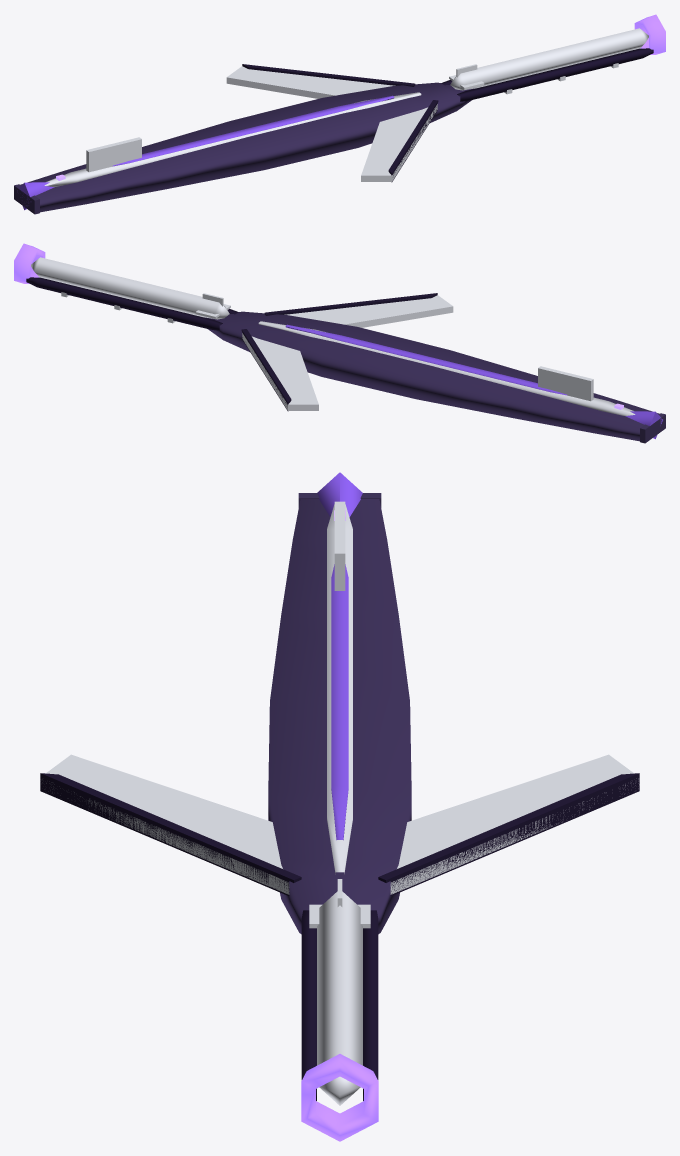
Rendered from lance-hadron.glb.
3 renders of one model, top to bottom at view 1: azimuth 30°, elevation 25°; view 2: azimuth 150°, elevation 25°; view 3: azimuth 270°, elevation 25°, orthographic. The views are drawn at different scales.
Parts seen in each view (by area): view 1: blade_hull, torpedo, guard_blade_p, guard_blade_s, rail_s, blade_spine, spine_inlay, dorsal_fin, guard_edge_p, muzzle_collar, guard_edge_s, transom (+1 smaller); view 2: blade_hull, torpedo, guard_blade_s, guard_blade_p, rail_p, blade_spine, spine_inlay, dorsal_fin, guard_edge_s, muzzle_collar, guard_edge_p, transom (+1 smaller); view 3: blade_hull, guard_blade_s, guard_blade_p, torpedo, guard_edge_p, guard_edge_s, spine_inlay, blade_spine, muzzle_collar, rail_s, rail_p, drive_prism (+1 smaller).
Part boxes in pixels (left/top/right/bottom): blade_hull: left=20, top=82, right=475, bottom=212; torpedo: left=450, top=28, right=648, bottom=90; guard_blade_p: left=226, top=66, right=395, bottom=98; guard_blade_s: left=361, top=104, right=437, bottom=181; rail_s: left=457, top=48, right=653, bottom=101; blade_spine: left=44, top=92, right=421, bottom=187; spine_inlay: left=112, top=95, right=394, bottom=166; dorsal_fin: left=86, top=137, right=141, bottom=172; guard_edge_p: left=242, top=64, right=415, bottom=86; muzzle_collar: left=634, top=14, right=665, bottom=54; guard_edge_s: left=388, top=100, right=438, bottom=182; transom: left=14, top=184, right=39, bottom=214; blade_hull: left=204, top=311, right=659, bottom=441; torpedo: left=31, top=257, right=229, bottom=319; guard_blade_s: left=284, top=295, right=453, bottom=327; guard_blade_p: left=242, top=333, right=318, bottom=410; rail_p: left=26, top=277, right=222, bottom=330; blade_spine: left=258, top=321, right=635, bottom=416; spine_inlay: left=285, top=324, right=567, bottom=395; dorsal_fin: left=538, top=366, right=593, bottom=401; guard_edge_s: left=264, top=293, right=437, bottom=315; muzzle_collar: left=14, top=243, right=45, bottom=283; guard_edge_p: left=241, top=329, right=291, bottom=411; transom: left=640, top=413, right=665, bottom=443; blade_hull: left=268, top=499, right=411, bottom=934; guard_blade_s: left=42, top=754, right=289, bottom=894; guard_blade_p: left=390, top=754, right=639, bottom=894; torpedo: left=317, top=891, right=362, bottom=1105; guard_edge_p: left=378, top=773, right=639, bottom=895; guard_edge_s: left=40, top=773, right=301, bottom=895; spine_inlay: left=331, top=564, right=348, bottom=840; blade_spine: left=327, top=504, right=352, bottom=874; muzzle_collar: left=301, top=1054, right=378, bottom=1141; rail_s: left=301, top=910, right=316, bottom=1100; rail_p: left=363, top=910, right=378, bottom=1100; drive_prism: left=317, top=472, right=362, bottom=516.
Size of the model in its own units: 95 by 8.7 by 39.
